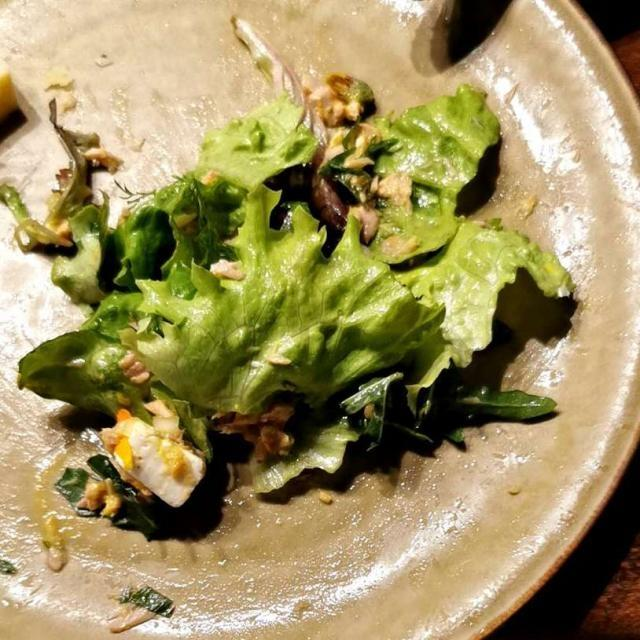egg: (101, 417, 215, 510)
salad: (7, 72, 612, 520)
tuna: (335, 163, 415, 243)
